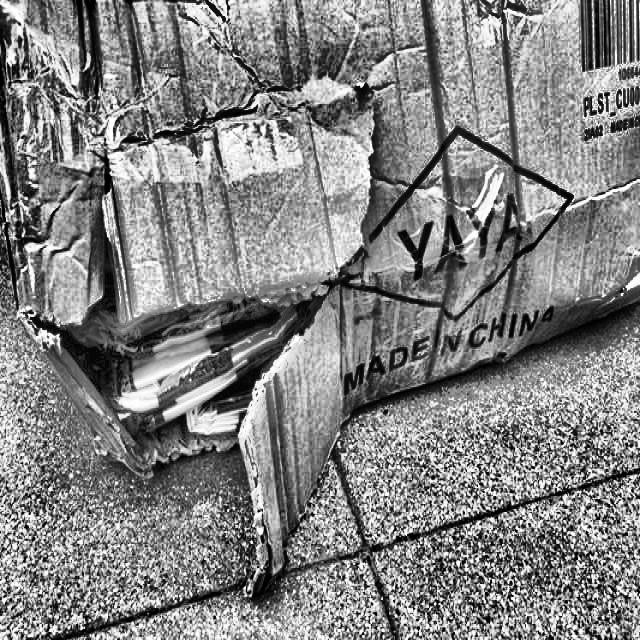box: (0, 0, 639, 609)
hole: (48, 257, 344, 503)
